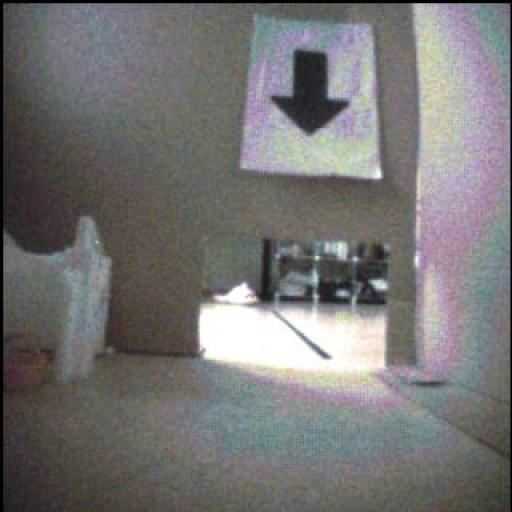arrow: (273, 51, 350, 136)
